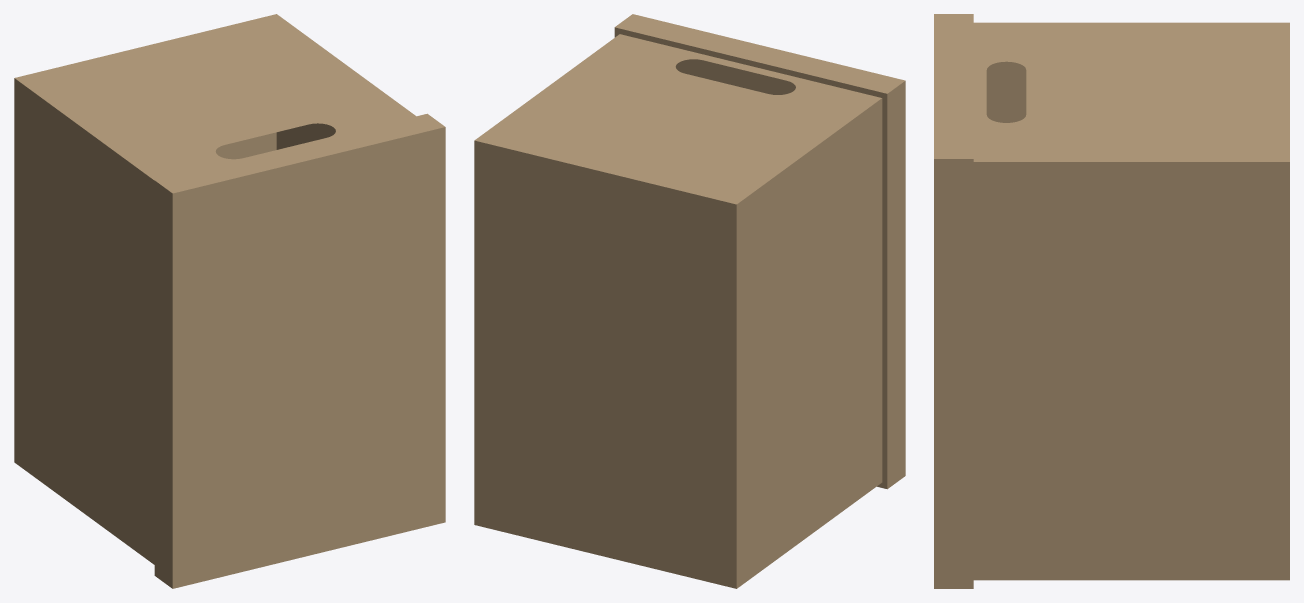
The picture shows the model from 3 angles, left to right: view 1: azimuth 30°, elevation 25°; view 2: azimuth 150°, elevation 25°; view 3: azimuth 270°, elevation 25°; orthographic projection. The views are drawn at different scales.
Visible parts, largest first — view 1: storage box; view 2: storage box; view 3: storage box.
Boxes of the visible parts, left/top/right/bottom form: storage box: left=14, top=14, right=445, bottom=588; storage box: left=474, top=14, right=905, bottom=588; storage box: left=934, top=14, right=1289, bottom=588.
Bounding box in the file's own units: 10.24 × 14.17 × 10.63.
